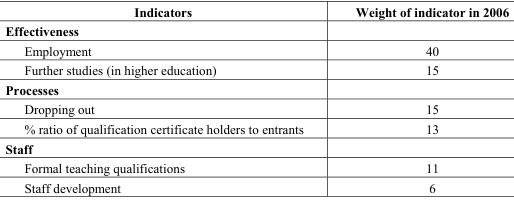table: (4, 4, 508, 194)
table column: (4, 4, 328, 194), (328, 4, 508, 194)
table column header: (4, 4, 508, 21)
table projected row header: (4, 79, 508, 99), (4, 21, 508, 40), (4, 138, 508, 157)
table row: (4, 40, 508, 60), (4, 79, 508, 99), (4, 118, 508, 138), (4, 157, 508, 177), (4, 21, 508, 40), (4, 60, 508, 79), (4, 99, 508, 118), (4, 138, 508, 157), (4, 4, 508, 21), (4, 177, 508, 194)
